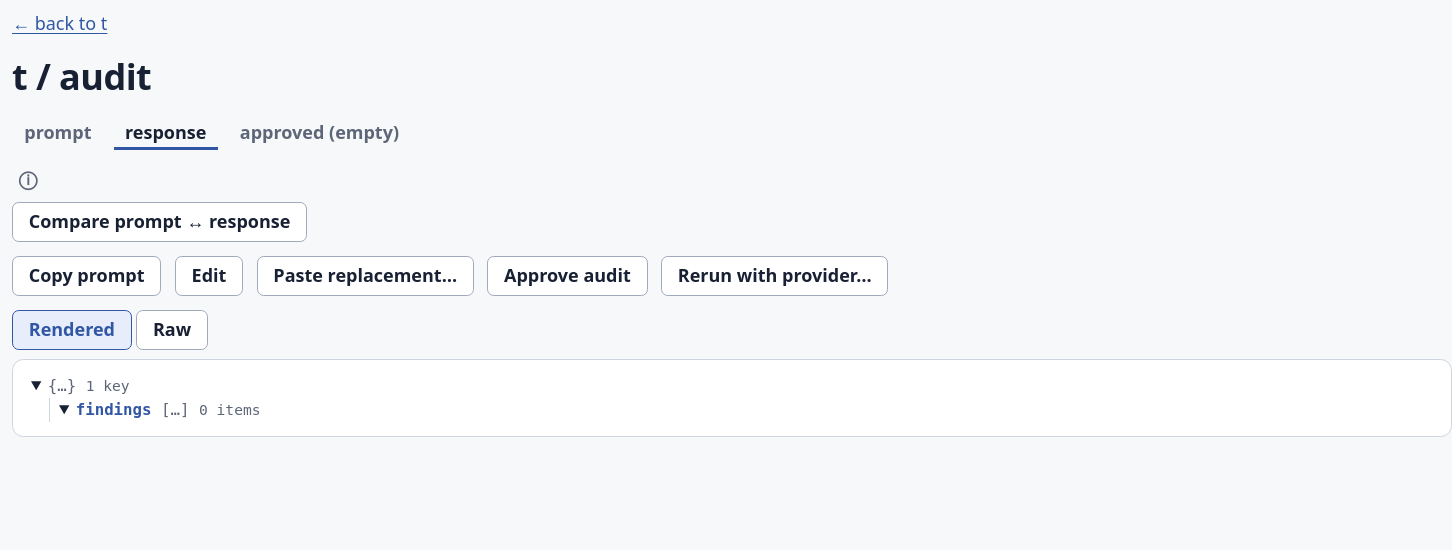
Test: StageViewerPage › announces stage action success and errors with status semantics
What coordinates should you click on to do the following:
click the button "Approve audit"
I would click on:
 (567, 276)
Its box is [487, 256, 648, 296].
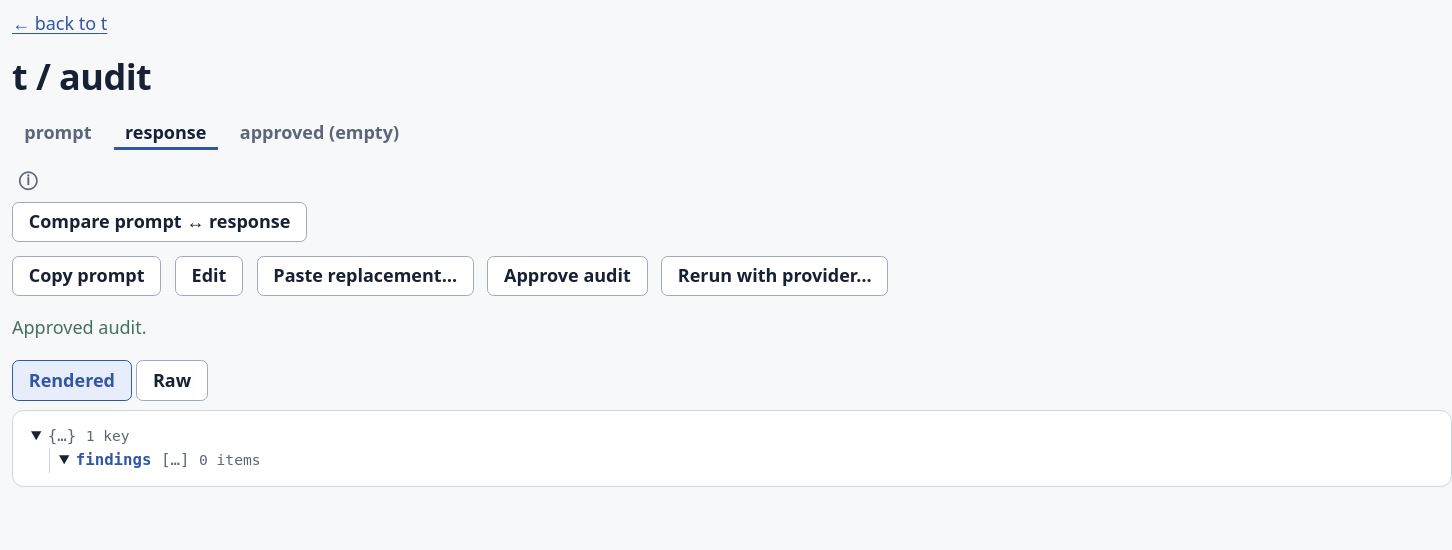
Result: the message reads "Approved audit." at [12, 315, 147, 339]
What coordinates should you click on to do the following:
click the button "Rerun with provider…"
I would click on:
 (775, 276)
Its box is [661, 256, 888, 296].
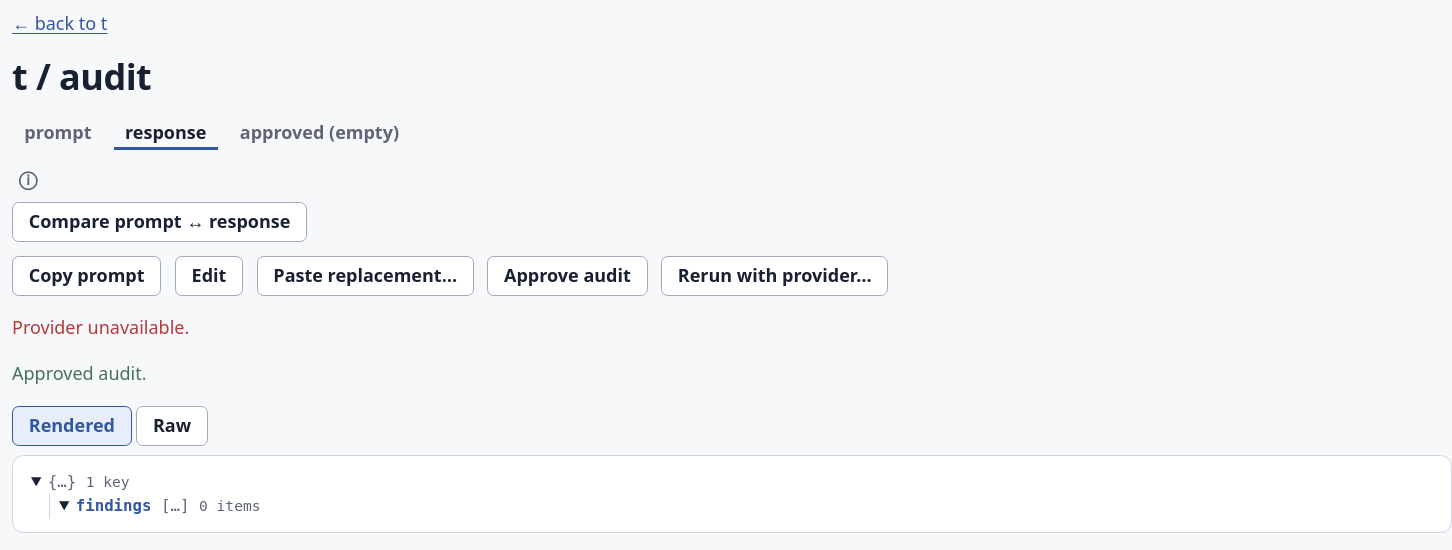
Result: the message "Provider unavailable." is shown at [12, 315, 189, 339]
